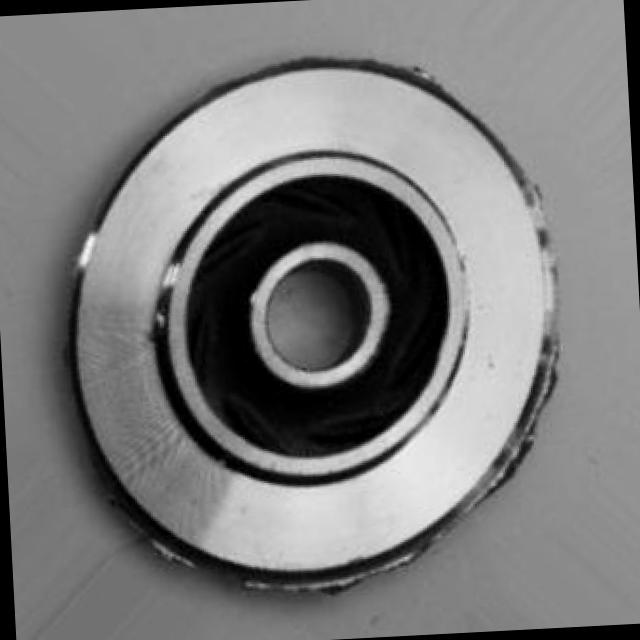Defect: (509, 362, 564, 468)
